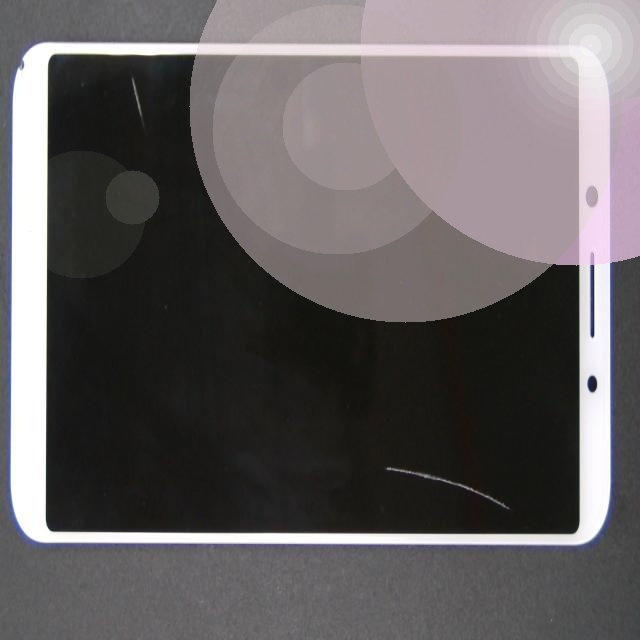scratch: (349, 292, 640, 640), (91, 55, 218, 126)
